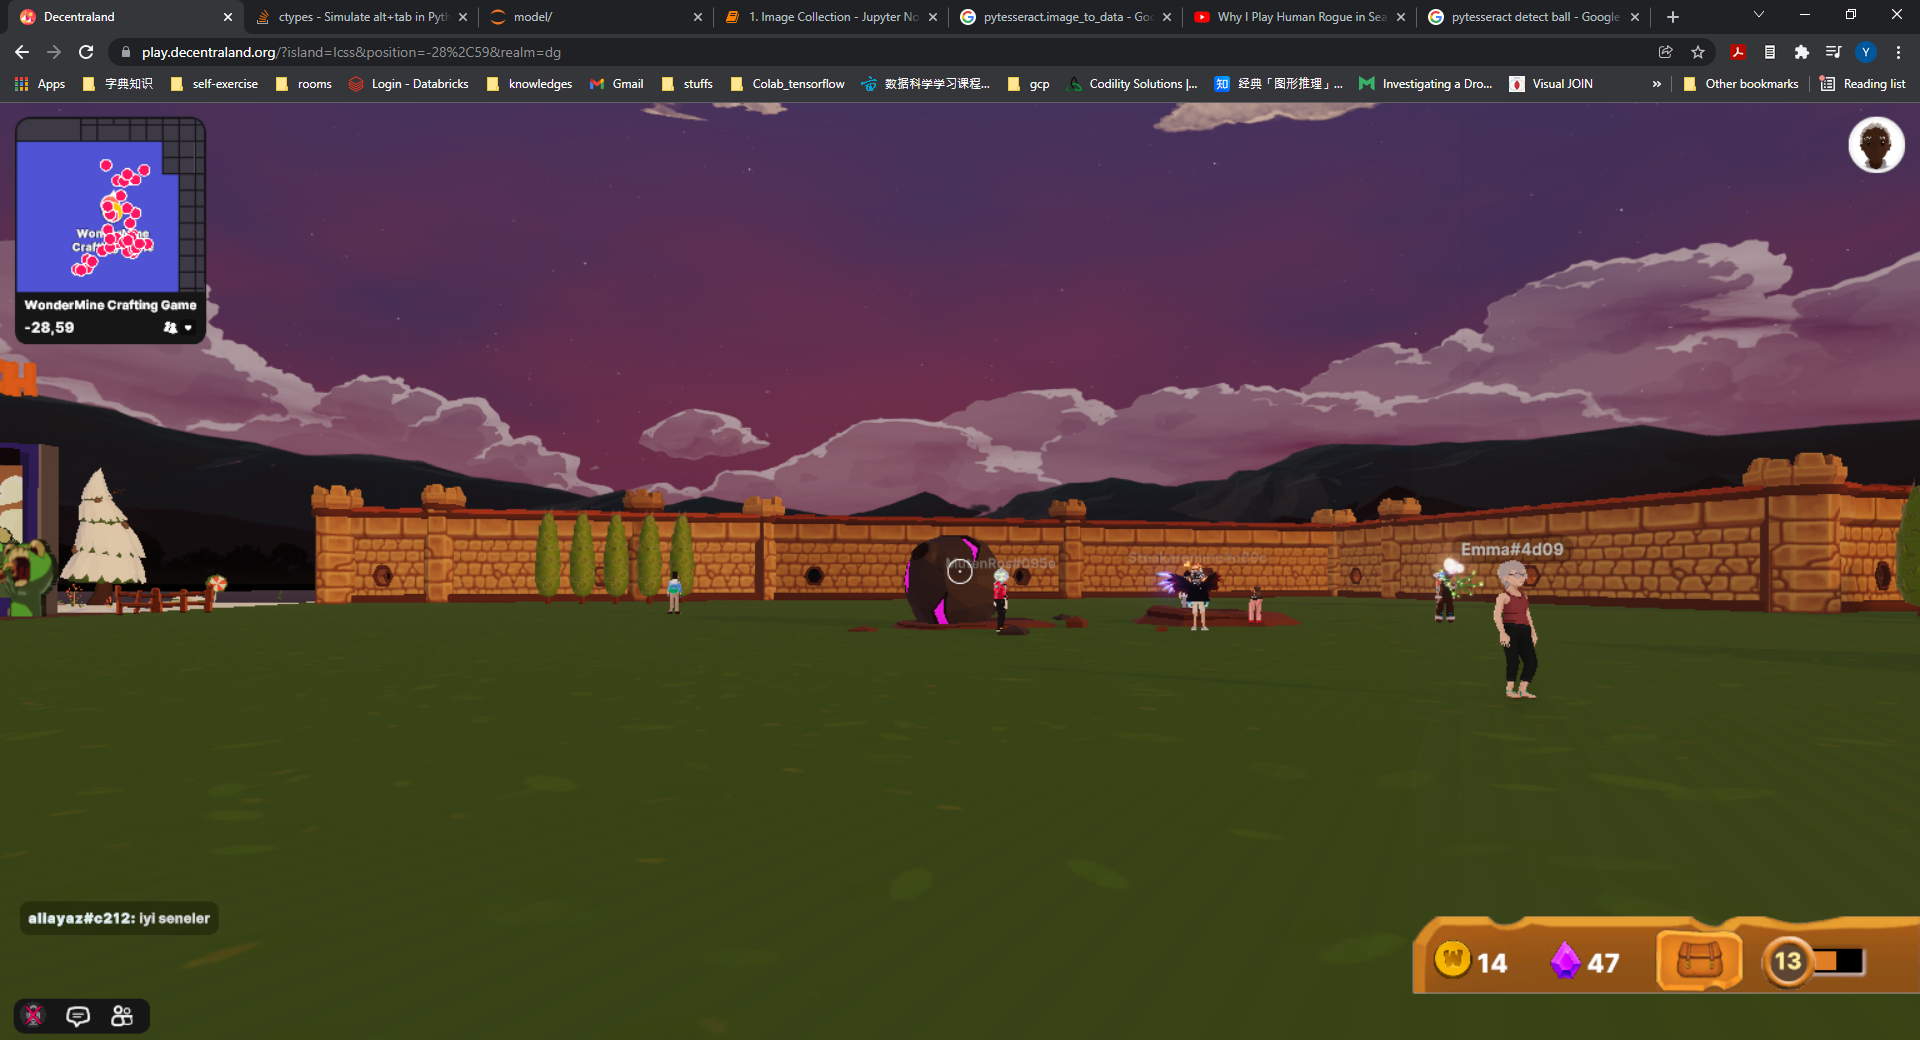black_ball: (897, 505, 1028, 660)
